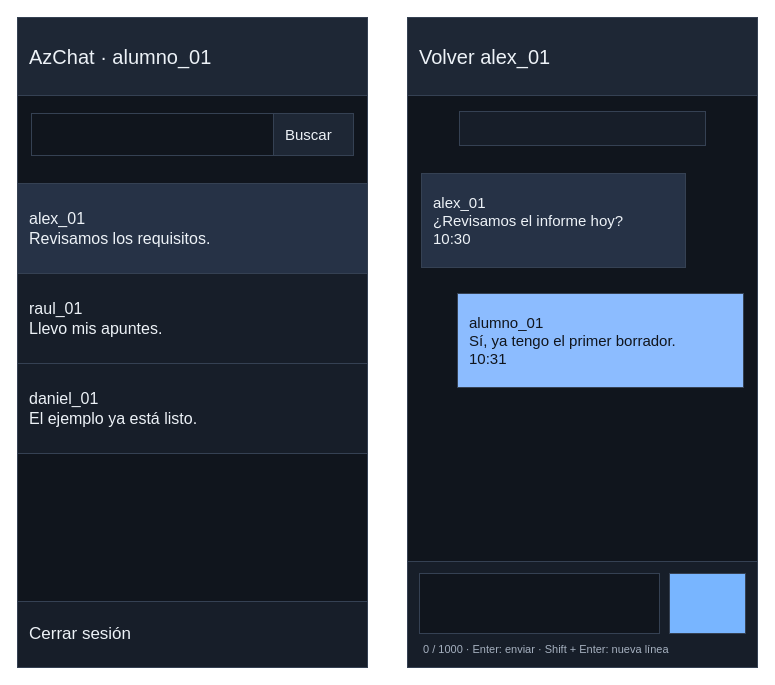
Some shapes in this 775 by 685 pixel diagram are drawn without their labels. Here are the shapes that lost their labels. From the top down, the box of each, then its label:
(30, 112, 274, 156): Usuario exacto
(458, 110, 706, 146): Ver mensajes anteriores
(418, 572, 660, 634): Escribe un mensaje
(668, 572, 746, 634): Enviar
